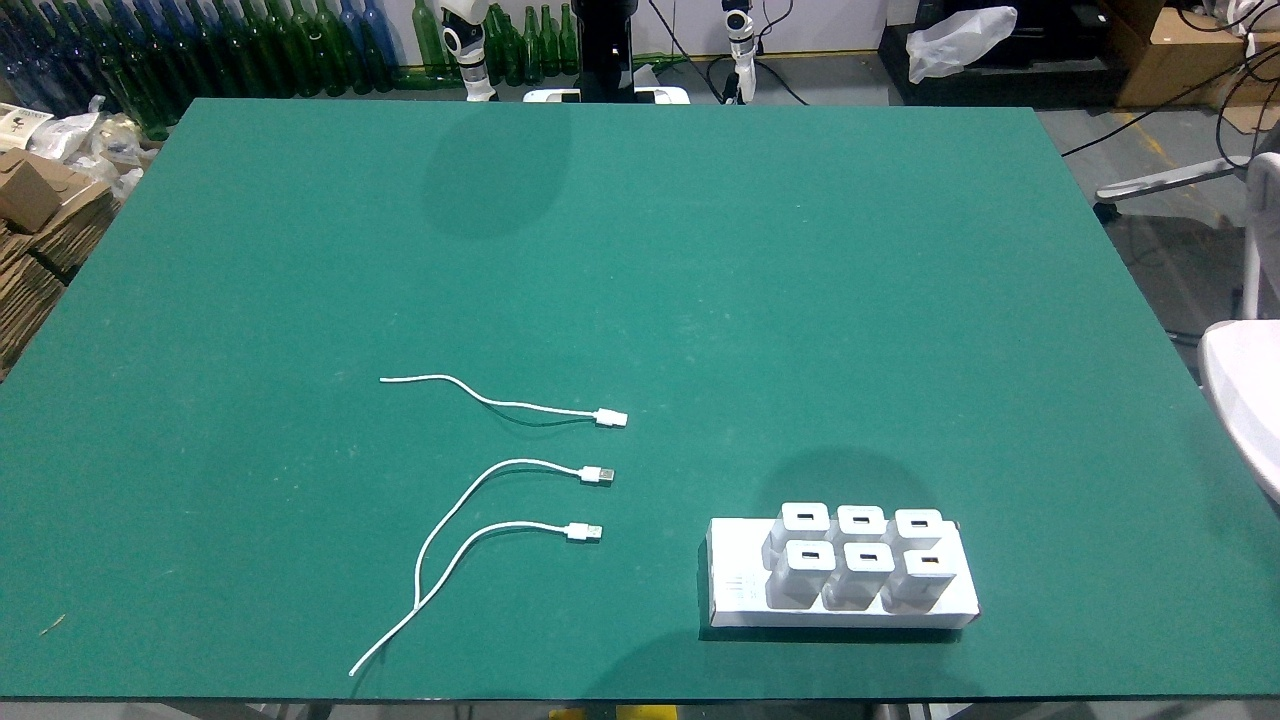usb_a_port: (857, 550, 885, 564), (850, 513, 873, 527), (801, 548, 822, 561), (908, 518, 932, 529), (918, 555, 942, 564), (795, 512, 816, 520)
